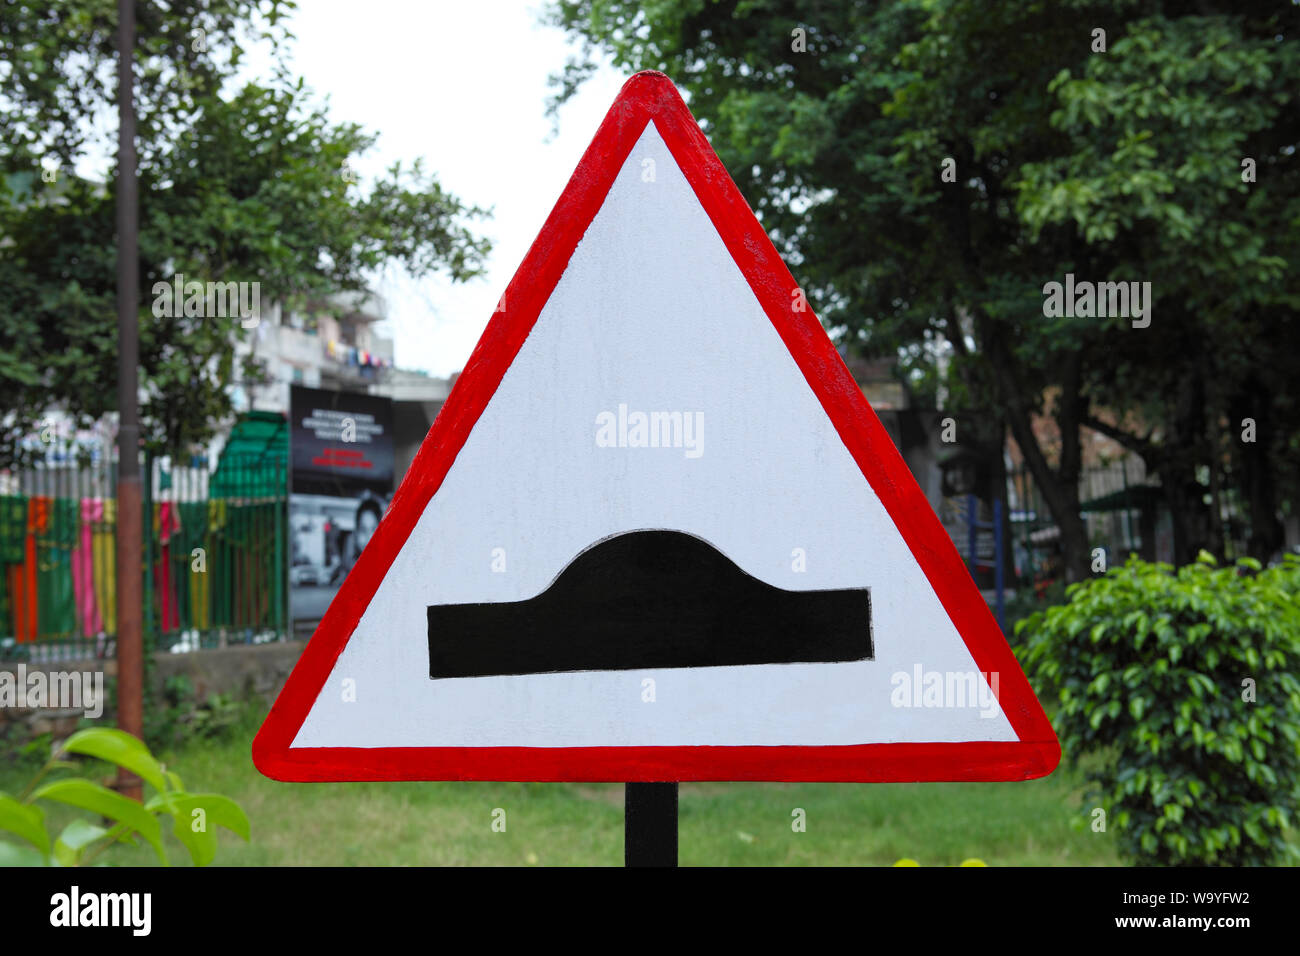speed-breaker: (301, 119, 1031, 769)
